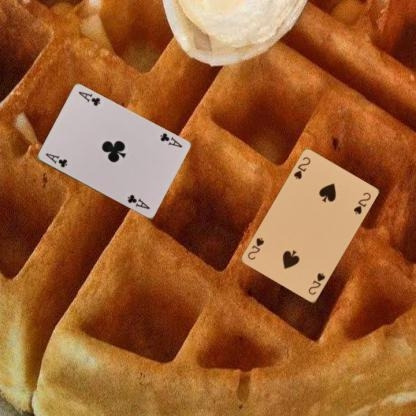2s: (306, 270, 326, 296), (292, 154, 312, 180)
Ac: (157, 131, 183, 150), (42, 151, 68, 169)
